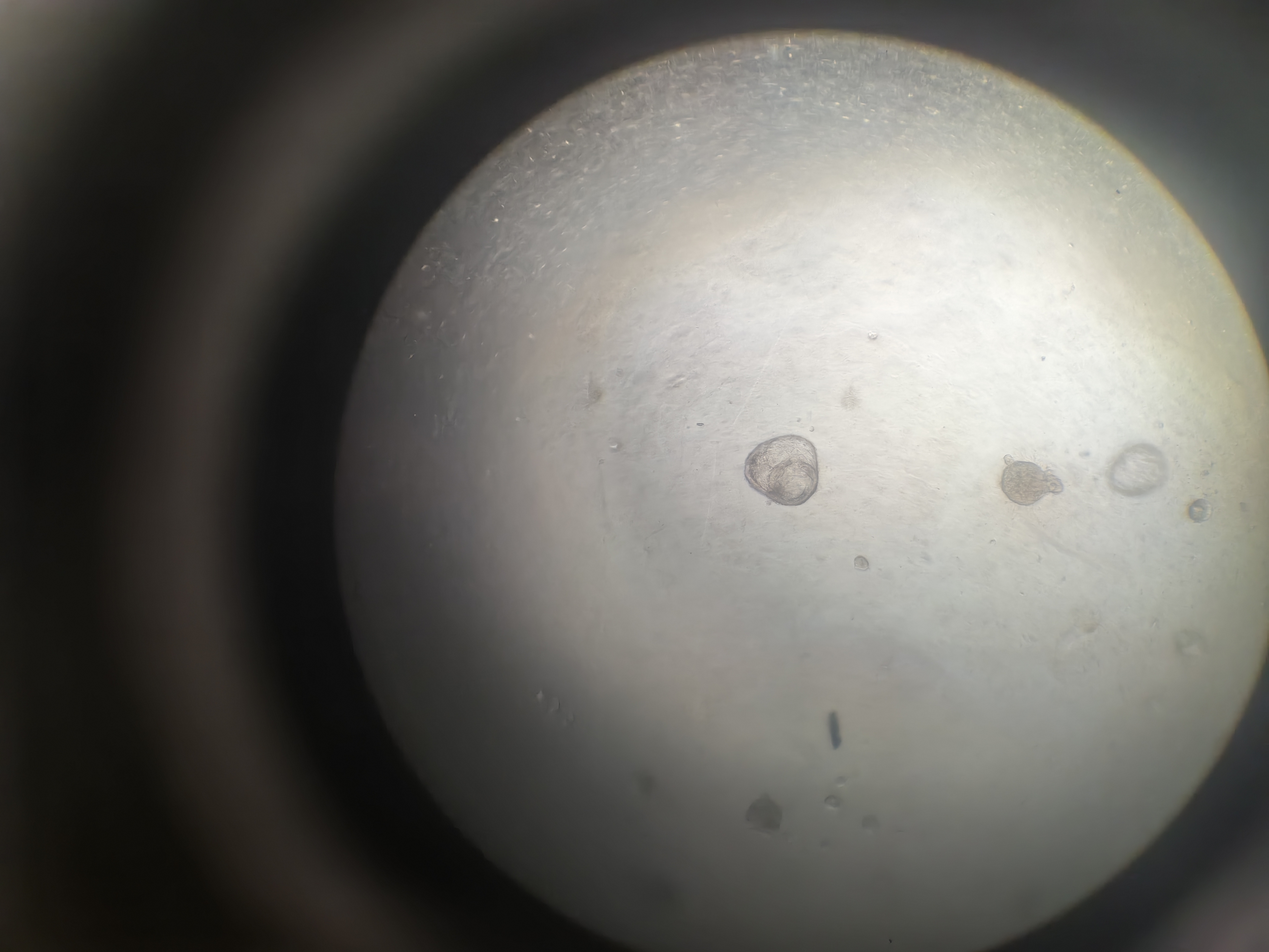organoid: (712, 431, 806, 515), (624, 124, 663, 172), (638, 485, 671, 521)
